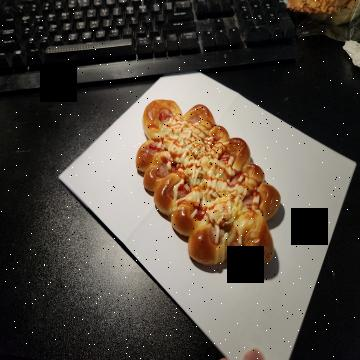pizza_bread: (136, 98, 282, 269)
